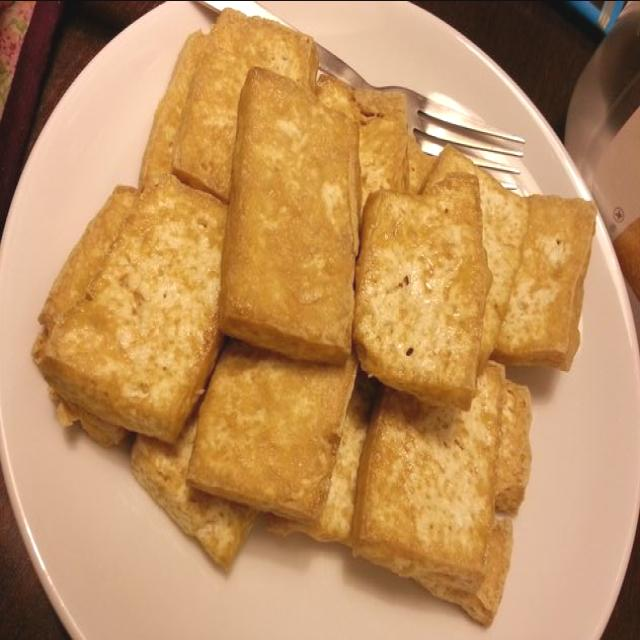tahu goreng: (37, 169, 215, 456), (217, 65, 358, 354), (356, 176, 482, 408)
